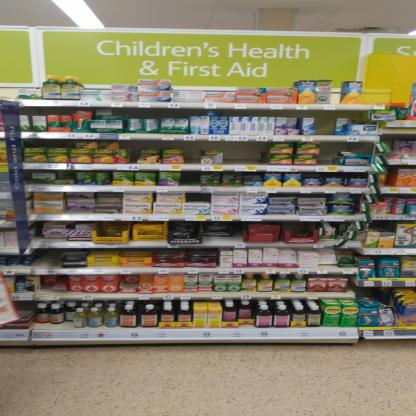Void: (226, 141, 260, 164), (362, 81, 386, 103), (313, 113, 335, 135), (319, 141, 336, 163), (40, 275, 66, 289), (34, 250, 56, 266), (28, 139, 70, 147), (133, 141, 178, 148), (372, 220, 393, 231), (121, 275, 136, 290), (188, 141, 198, 163), (182, 174, 199, 184), (188, 194, 209, 202)
